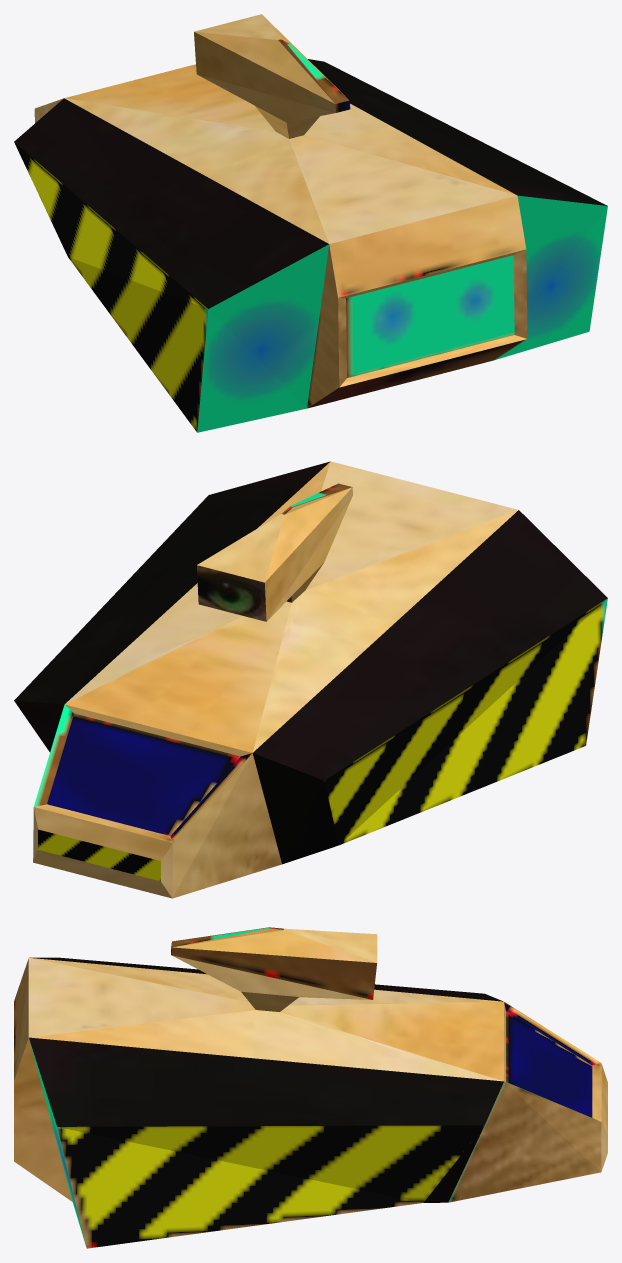
File: destroyerx.obj
3 views of the same model, one above another, from view 1: azimuth 30°, elevation 25°; view 2: azimuth 150°, elevation 25°; view 3: azimuth 270°, elevation 25° (orthographic). The views are drawn at different scales.
Parts seen in each view (by area): view 1: Cube_Cube.001; view 2: Cube_Cube.001; view 3: Cube_Cube.001.
Boxes of the visible parts, bbox=[...] form: Cube_Cube.001: bbox=[14, 14, 607, 432]; Cube_Cube.001: bbox=[14, 461, 607, 898]; Cube_Cube.001: bbox=[14, 927, 607, 1248].
Size of the model in its own units: 4.19 by 2.67 by 6.03.
1 material, 1 textured.
